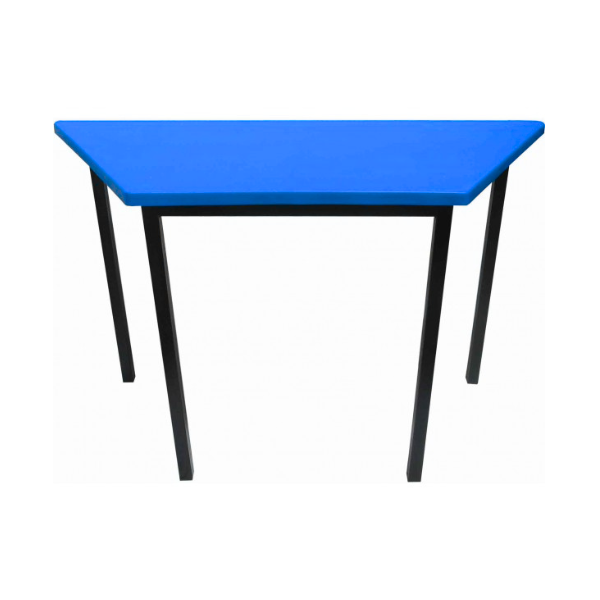m01: (53, 118, 546, 485)
